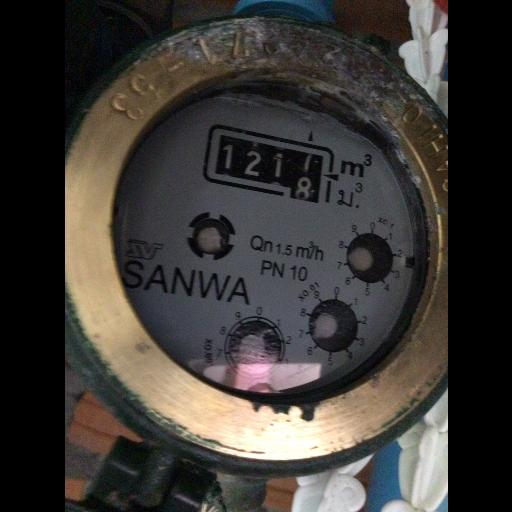1: (215, 135, 242, 177), (265, 146, 290, 187)
2: (238, 140, 266, 182)
7: (291, 150, 322, 202)
border_water_meter_number: (198, 124, 343, 207)
